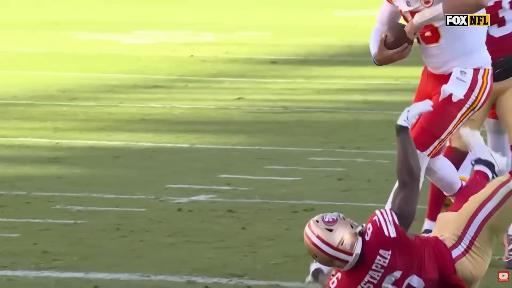Helmet: (304, 213, 363, 270)
Jersey: (328, 210, 465, 287), (419, 21, 491, 73), (486, 0, 511, 62)
Player: (304, 101, 511, 287), (370, 0, 492, 195), (467, 0, 511, 174)
